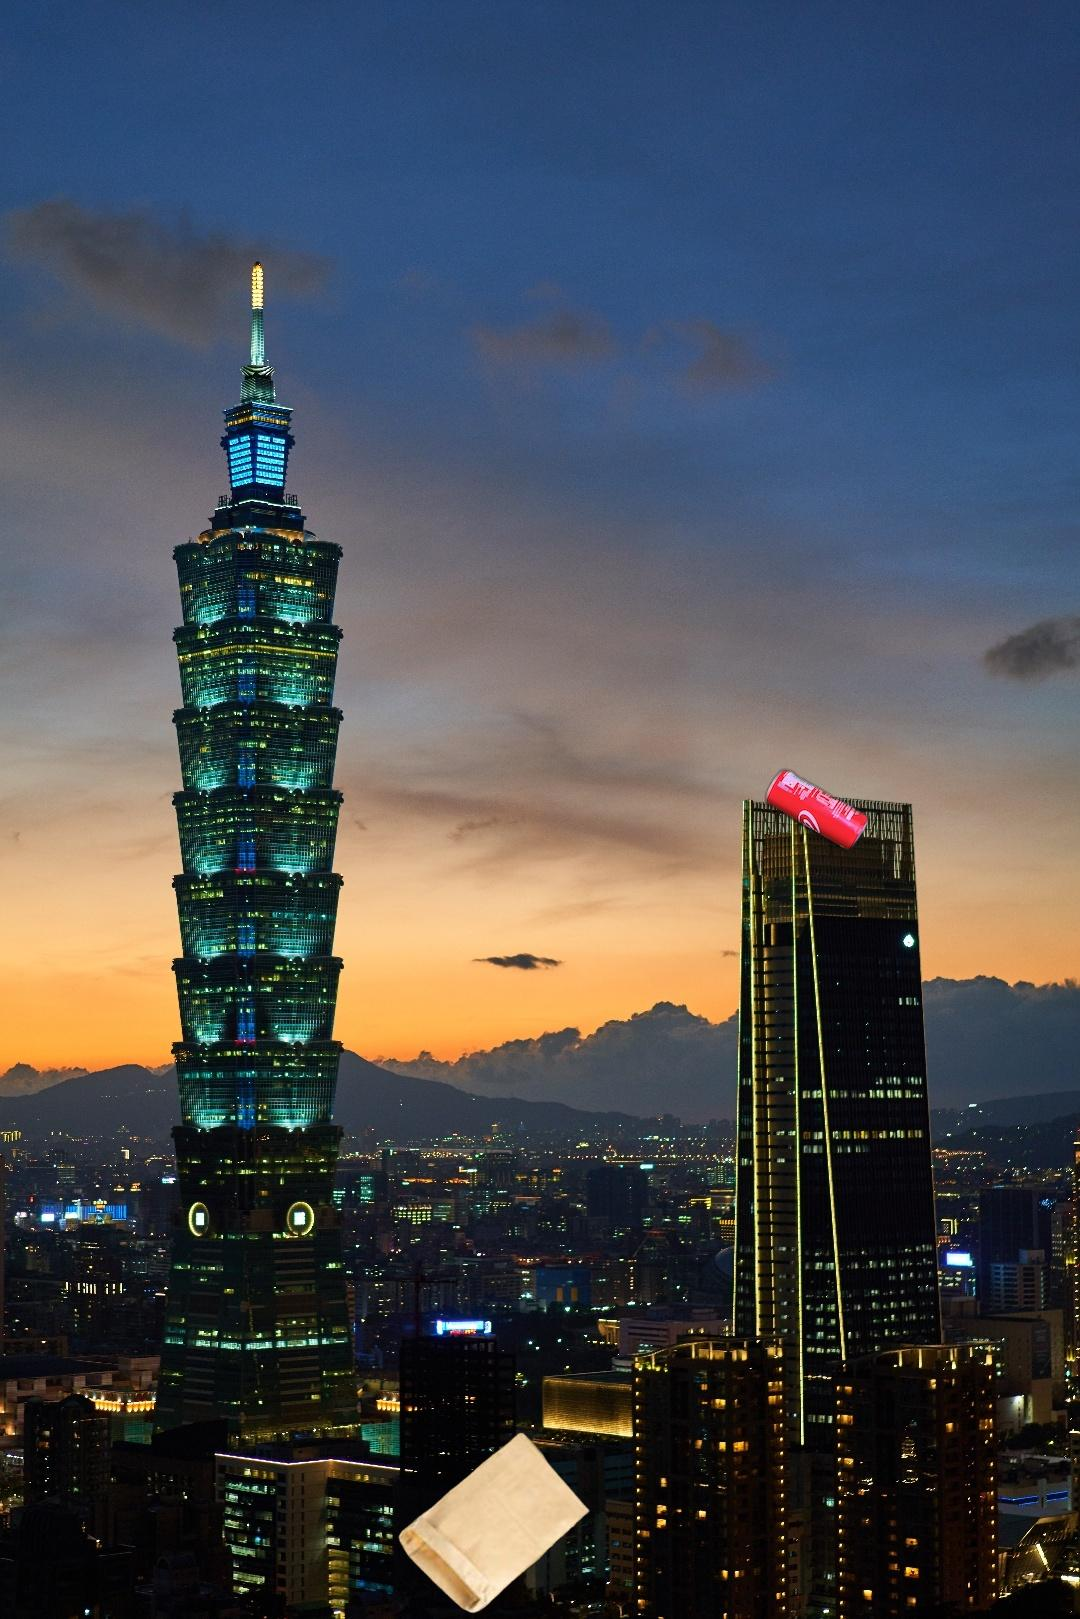metal-cans: (761, 763, 873, 857)
paper-bag: (395, 1431, 599, 1617)
